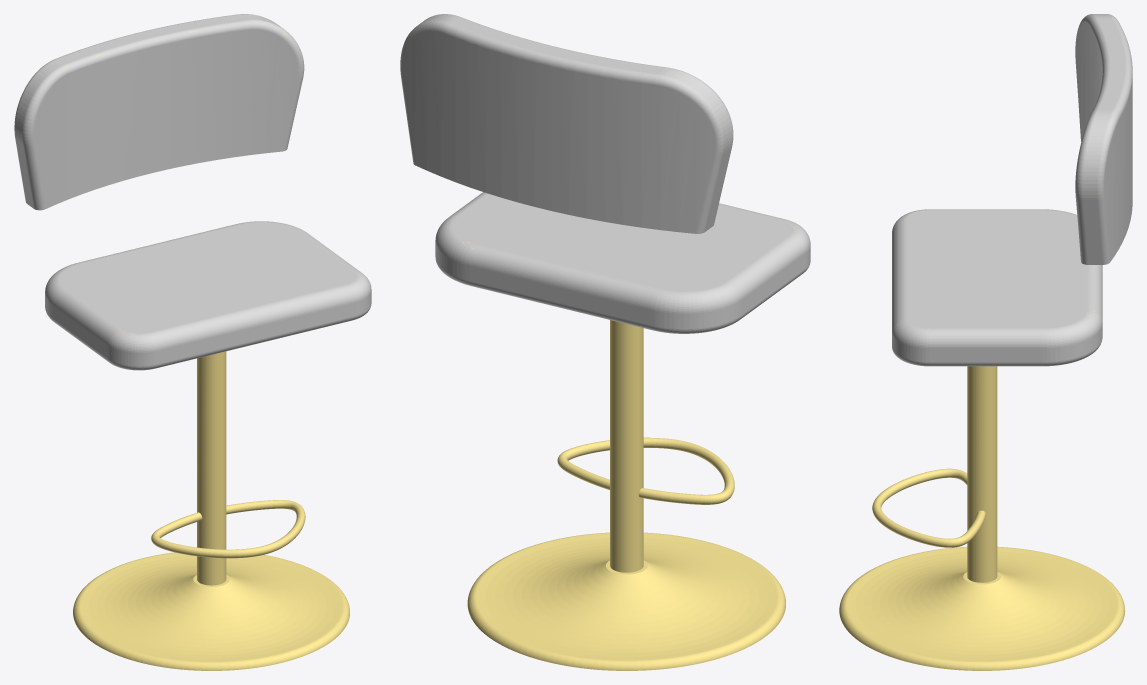
File: chair.glb
3 renders of one model, left to right at view 1: azimuth 30°, elevation 25°; view 2: azimuth 150°, elevation 25°; view 3: azimuth 270°, elevation 25°, orthographic. The views are drawn at different scales.
Parts seen in each view (by area): view 1: chair.002; view 2: chair.002; view 3: chair.002.
Part boxes in pixels (x1,y1,x2,y2): chair.002: (14,14,371,670); chair.002: (400,14,810,670); chair.002: (839,14,1132,670).
Size of the model in its own units: 0.4448 by 0.8 by 0.3899.
